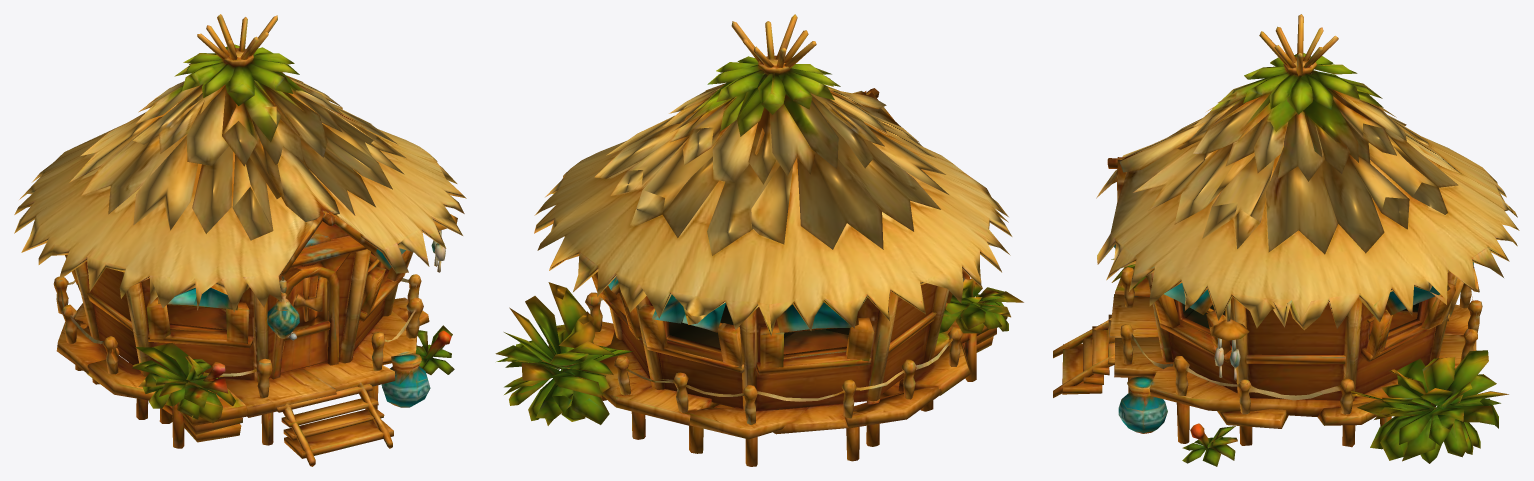
Rendered from cottage.glb.
3 renders of one model, left to right at view 1: azimuth 30°, elevation 25°; view 2: azimuth 150°, elevation 25°; view 3: azimuth 270°, elevation 25°, orthographic. The views are drawn at different scales.
Size of the model in its own units: 1 by 0.8418 by 1.
Materials: 1 (1 with a texture image).
